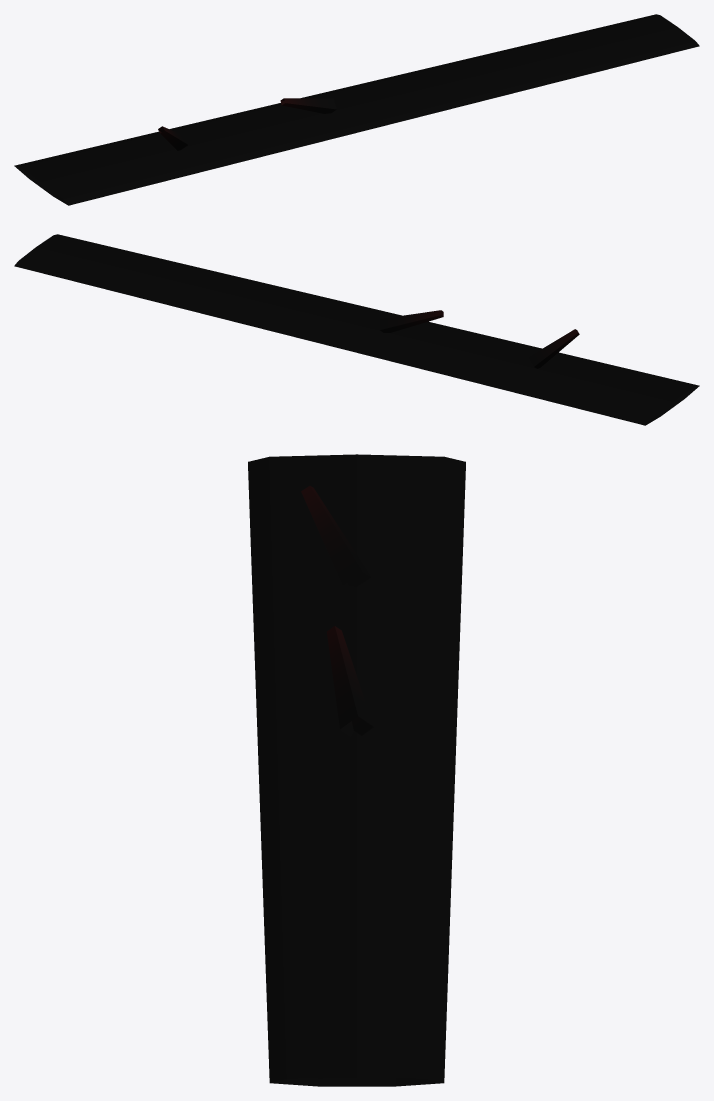
Rendered from fallen_log_b.glb.
3 renders of one model, top to bottom at view 1: azimuth 30°, elevation 25°; view 2: azimuth 150°, elevation 25°; view 3: azimuth 270°, elevation 25°, orthographic. The views are drawn at different scales.
Visible parts, largest first — view 1: fallen_log_b; view 2: fallen_log_b; view 3: fallen_log_b.
Part boxes in pixels (x1=…): fallen_log_b: x1=14, y1=14, x2=699, y2=205; fallen_log_b: x1=14, y1=234, x2=699, y2=425; fallen_log_b: x1=248, y1=454, x2=465, y2=1086.
Bounding box in the file's own units: 3.84 × 0.2508 × 0.5699.
1 material, 1 textured.
